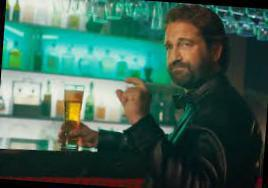Drunk: (162, 25, 207, 85)
